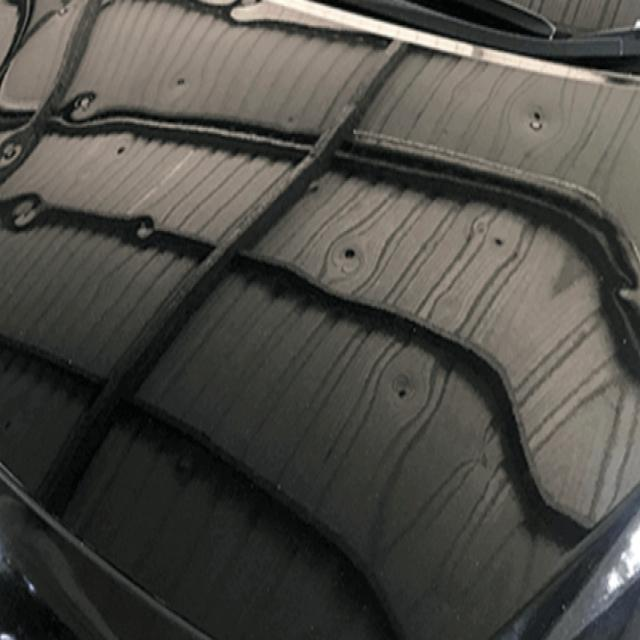dents: (12, 177, 50, 247), (63, 80, 106, 134), (391, 371, 431, 429), (2, 110, 30, 184), (518, 106, 556, 152), (130, 207, 169, 248), (334, 236, 364, 288), (172, 68, 206, 110), (111, 139, 143, 173), (487, 230, 515, 262)
